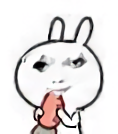dragon: (32, 55, 88, 93)
